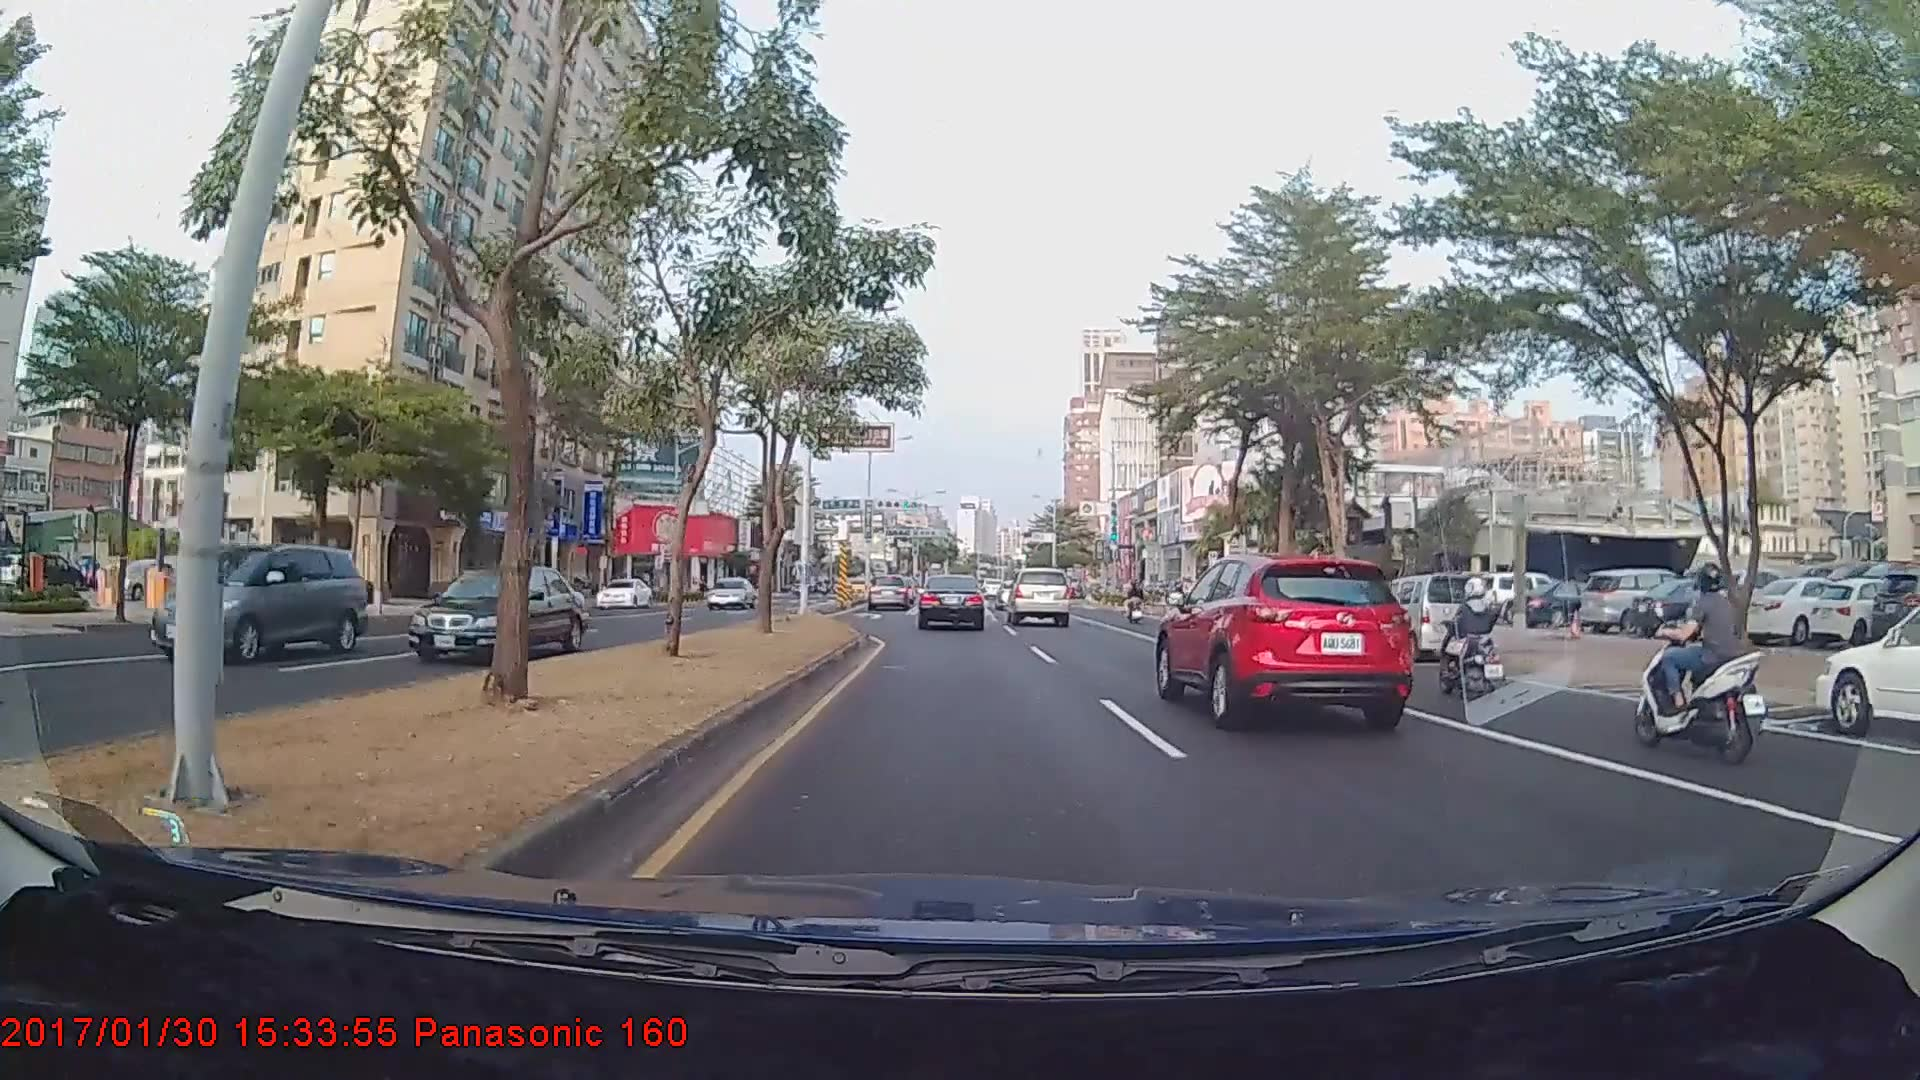rider: (1624, 555, 1774, 765), (1424, 573, 1518, 705), (1127, 584, 1153, 628)
vehicle: (1153, 549, 1411, 729), (147, 544, 369, 659), (406, 563, 589, 663), (1815, 587, 1917, 738), (1364, 573, 1483, 662), (1574, 569, 1701, 636), (916, 573, 985, 631), (1008, 564, 1071, 626), (866, 572, 916, 613), (704, 576, 757, 611), (597, 577, 652, 610)
